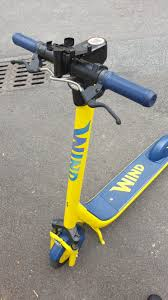kick_board: (11, 32, 168, 266)
kick_handler: (11, 31, 155, 116)
kick_neck: (64, 107, 93, 211)
kick_wheel: (48, 230, 85, 268)
